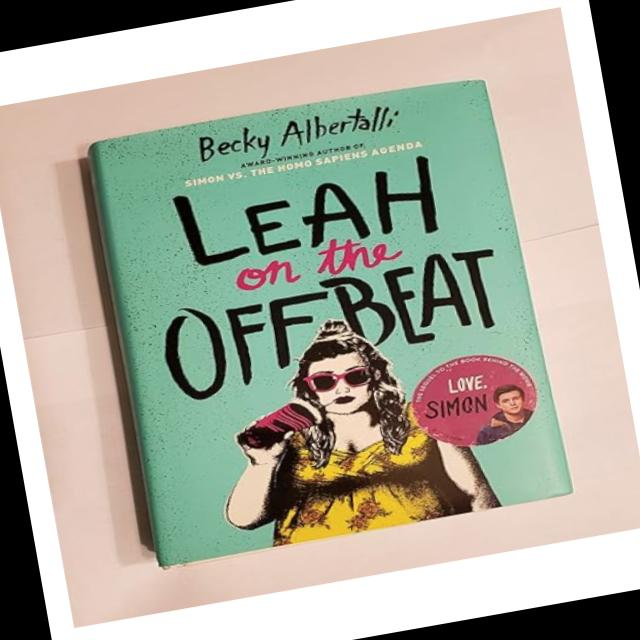titles-or-authors: (126, 134, 516, 408), (185, 94, 410, 168)
